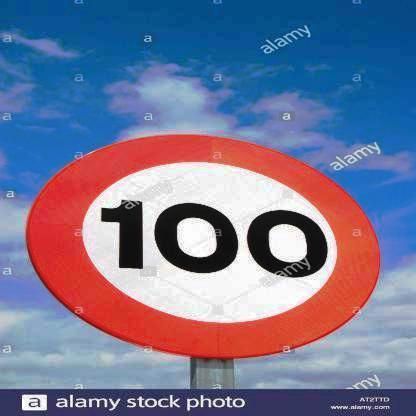Speed Limit -100-: (26, 131, 385, 360)
